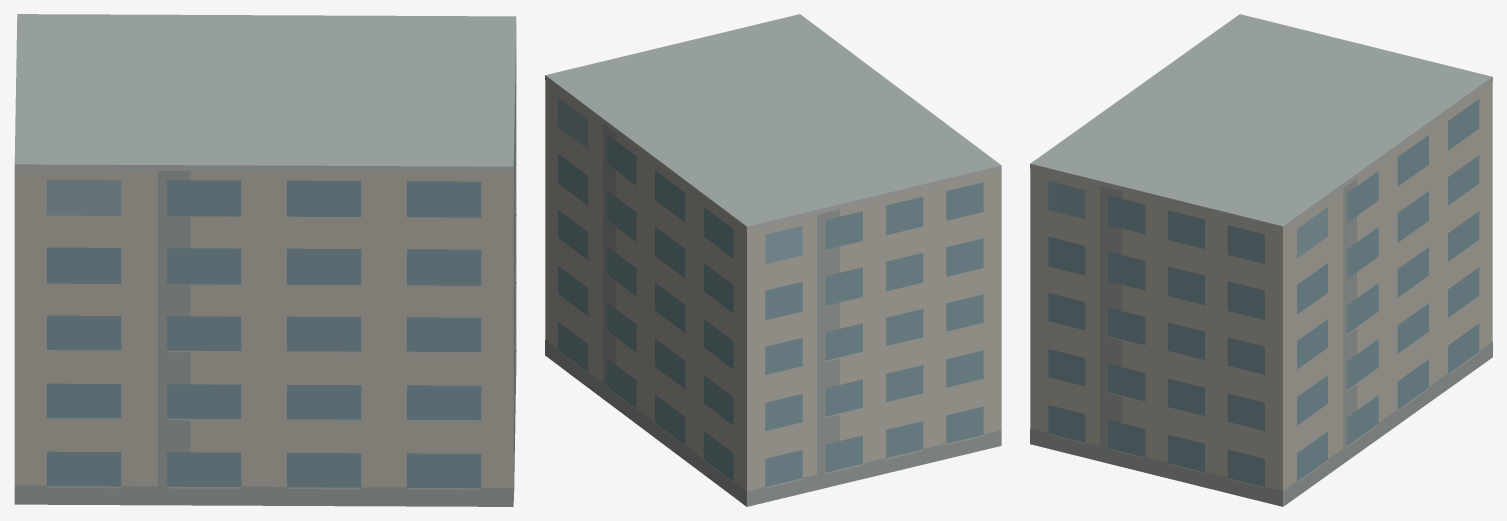
The model's file is survey-upis-32622295.glb.
3 renders of one model, left to right at view 1: azimuth 30°, elevation 25°; view 2: azimuth 150°, elevation 25°; view 3: azimuth 270°, elevation 25°, orthographic. The views are drawn at different scales.
Parts seen in each view (by area): view 1: survey-upis-32622295.tmp; view 2: survey-upis-32622295.tmp; view 3: survey-upis-32622295.tmp.
Boxes of the visible parts, x1,y1,x2,y2 form: survey-upis-32622295.tmp: (14,14,516,506); survey-upis-32622295.tmp: (545,14,1001,506); survey-upis-32622295.tmp: (1030,14,1492,506).
Bounding box in the file's own units: 22.42 × 13.8 × 20.63.
